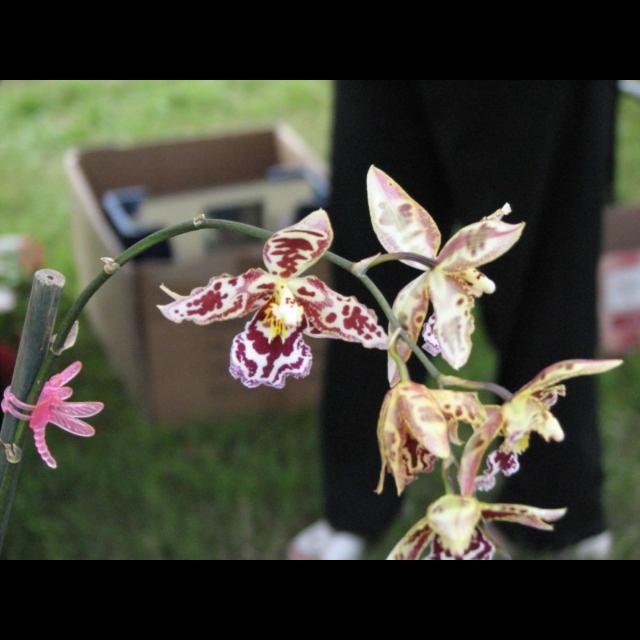Flower: (155, 161, 622, 559)
